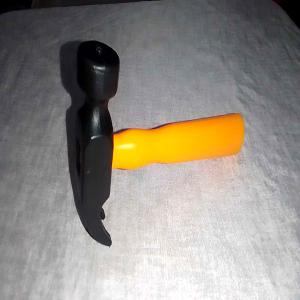martelo: (74, 39, 246, 248)
